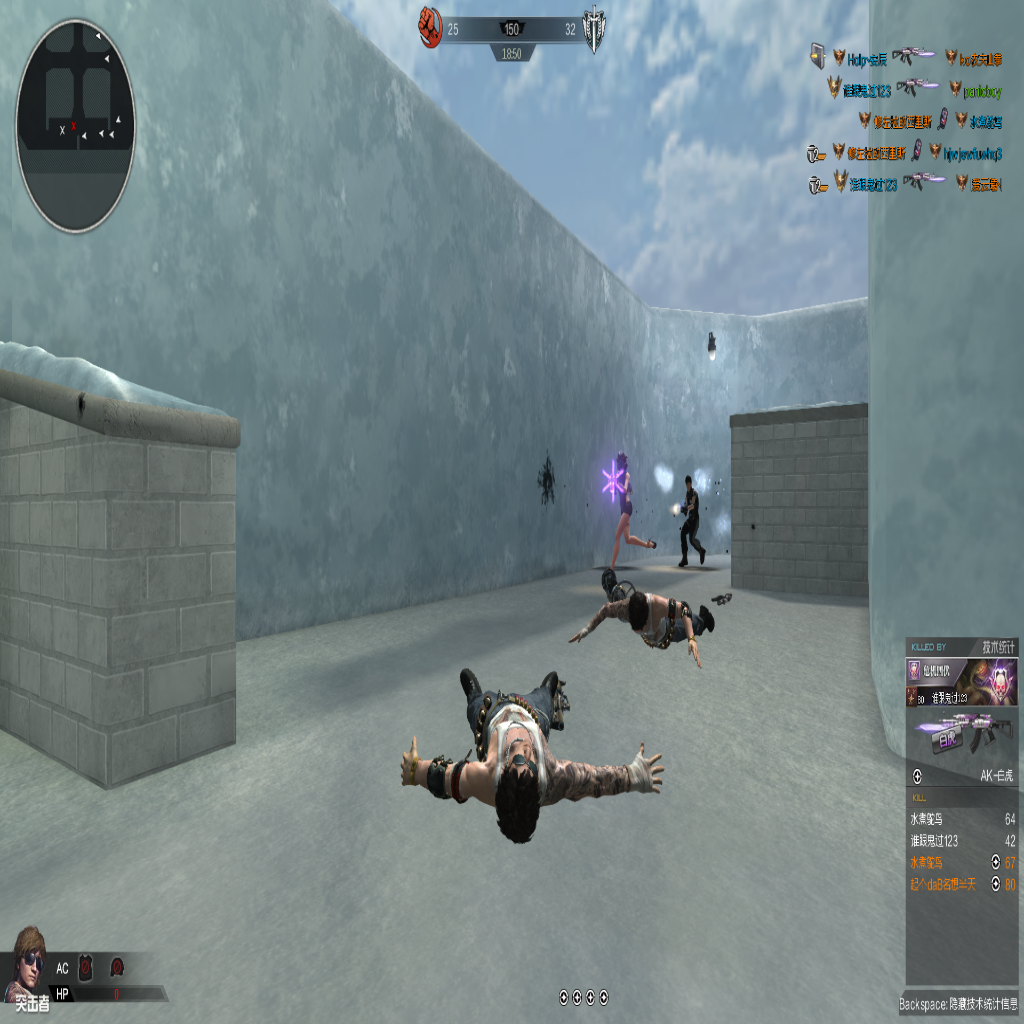ct: (603, 448, 655, 590), (675, 472, 706, 569)
